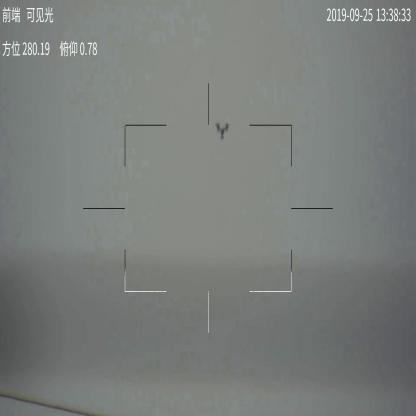uav: (214, 118, 231, 142)
